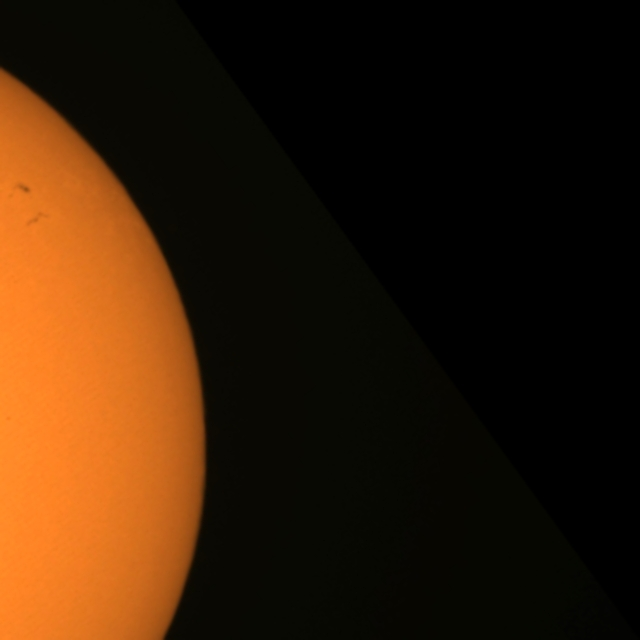sunspot: (3, 181, 33, 201), (24, 210, 51, 229)
